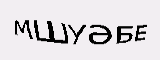Б: (115, 21, 133, 45)
Е: (135, 22, 147, 44)
М: (11, 18, 33, 39)
Ш: (31, 17, 70, 44)
Ү: (66, 21, 87, 47)
Ә: (89, 22, 113, 46)
